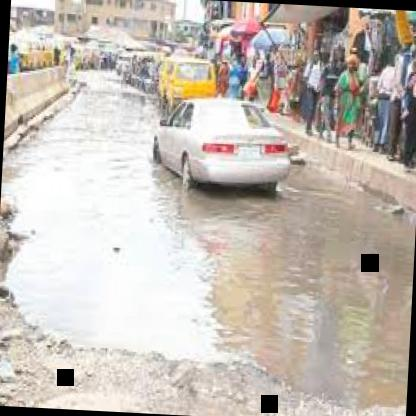car: (119, 90, 306, 220), (155, 52, 223, 112)
